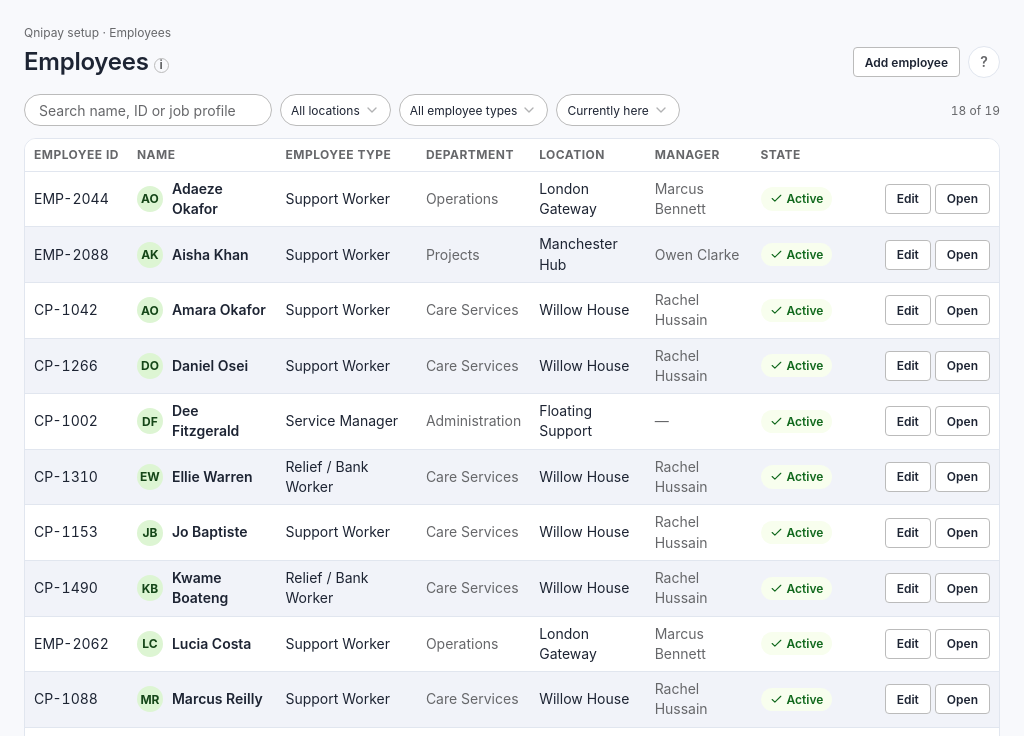
Test: editing someone › CR The employee ID cannot be changed once it exists
The width and height of the screenshot is (1024, 736).
Click the button "Edit" in the row of "CP-1042" at (908,310), box [885,295,931,325]
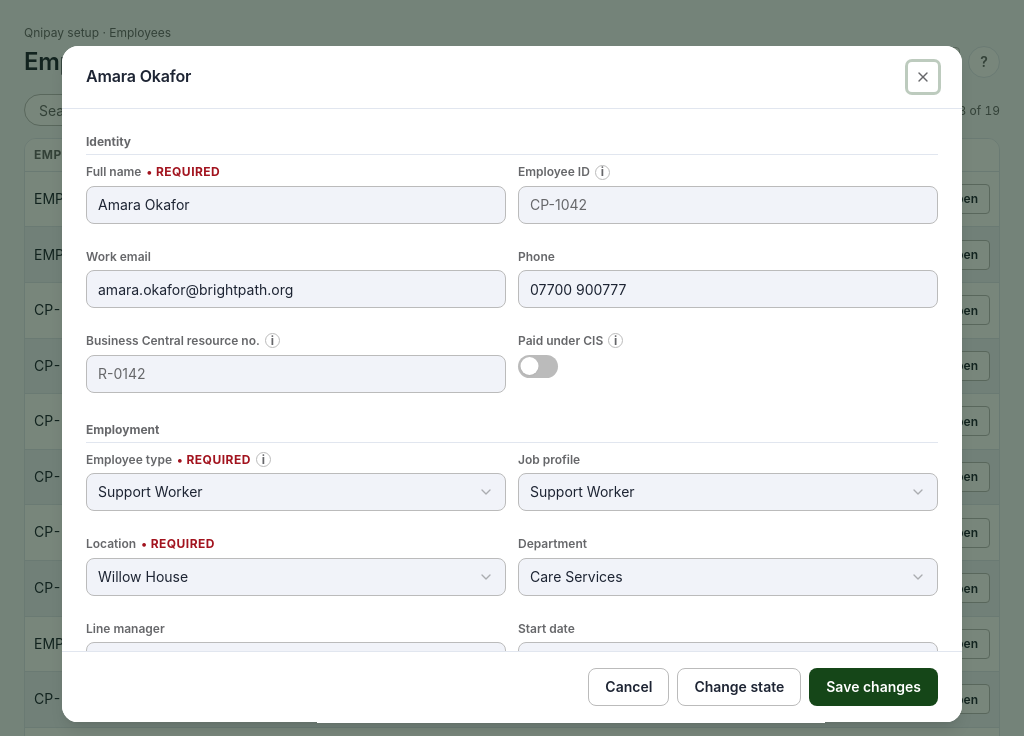
Expected: the element with test id "employee-form" is shown
